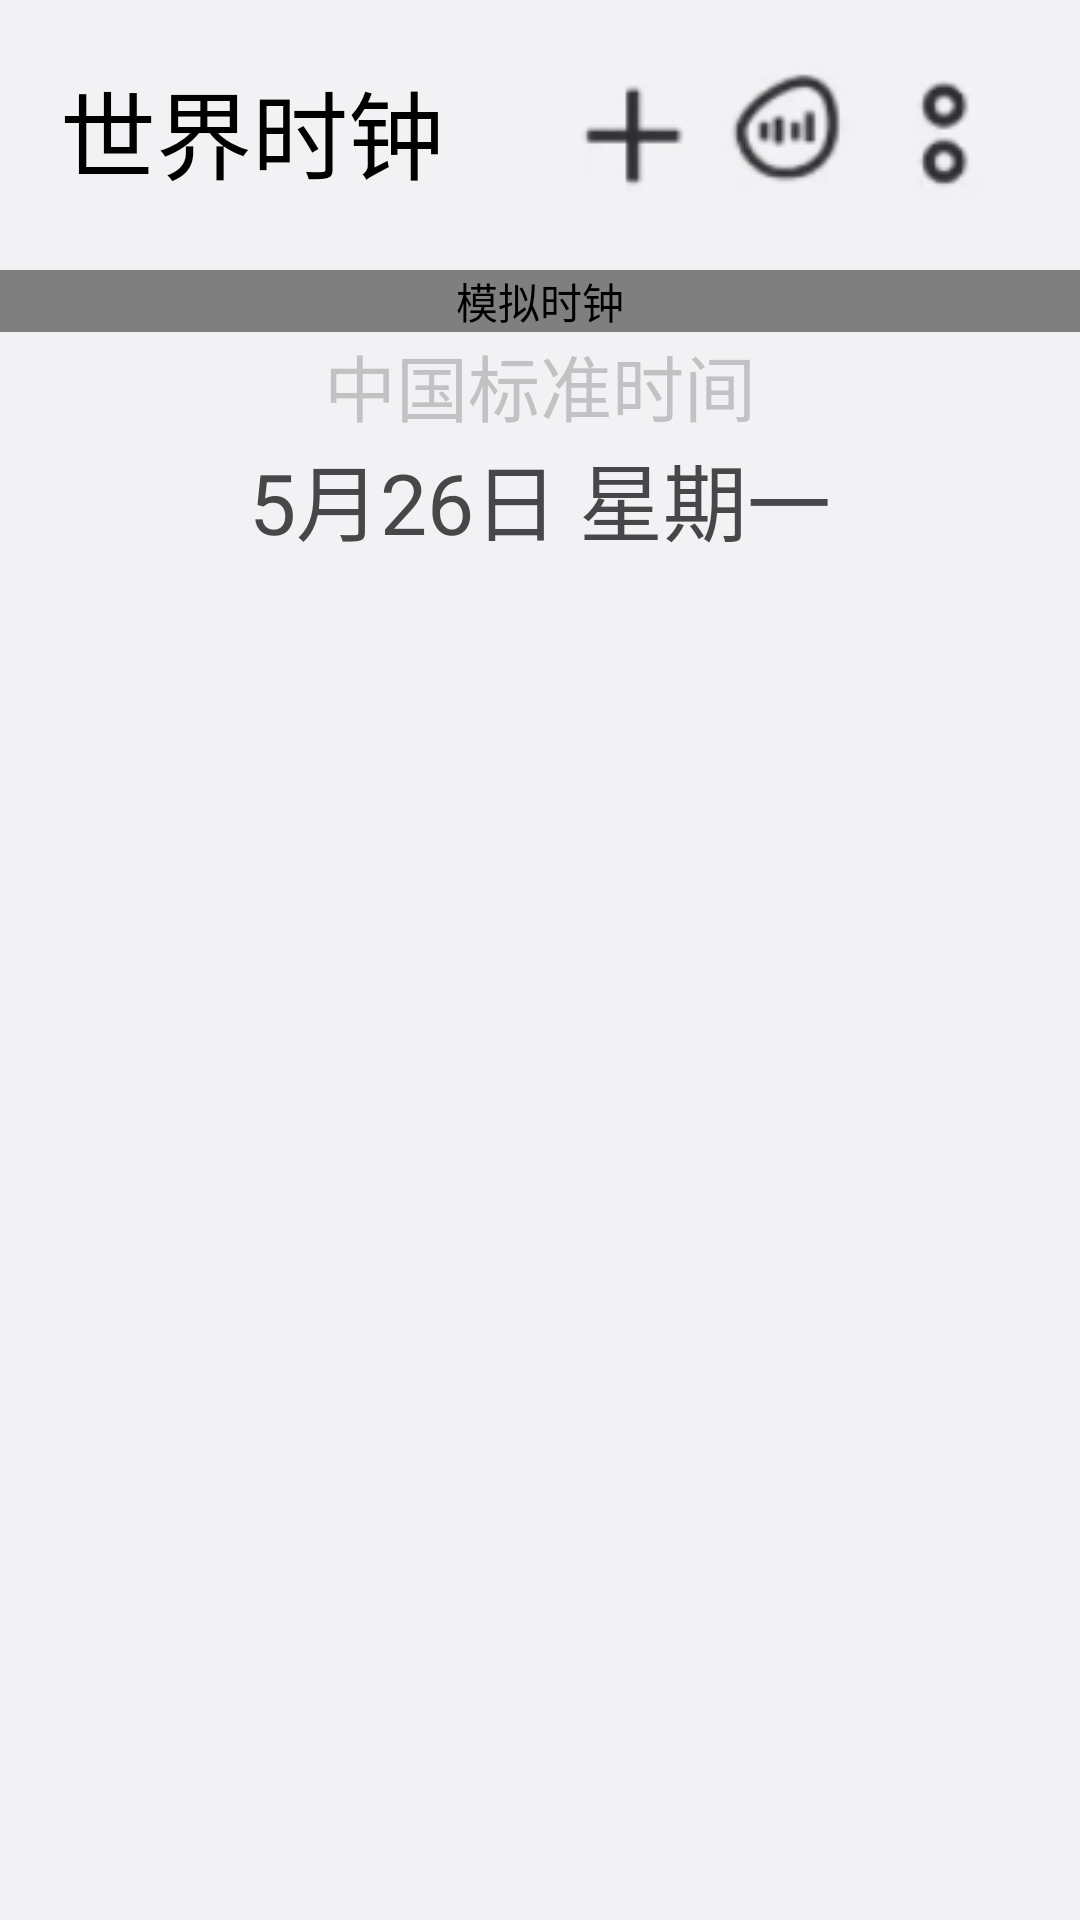

Icons on this 1080px×1920px Android screen, each with its box as rect(x1, y1, x2, y2):
AI: rect(733, 74, 840, 181)
应用设置: rect(921, 82, 968, 185)
添加城市: rect(585, 87, 683, 185)
